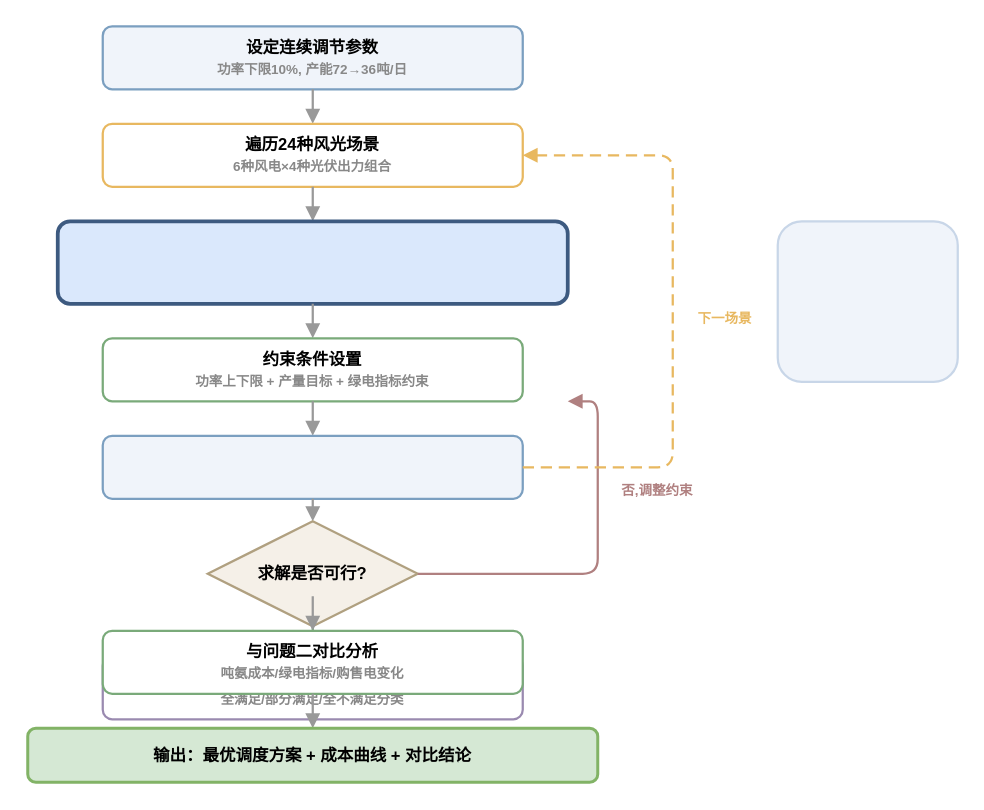
Image size: 984x810. Some labels were removed from this diagram. The shapes that lost their labels are listed below. From the top down, each one's centre as x and y in pixels, then its label:
point 312,262: ★ 构建线性规划模型 目标: min 吨氨成本 决策变量: 每时段制氢氨功率
point 867,300: 工具与方法 线性规划 scipy.optimize 连续功率调度 对比分析
point 312,466: 求解最优调度方案 scipy.optimize.linprog 求解
